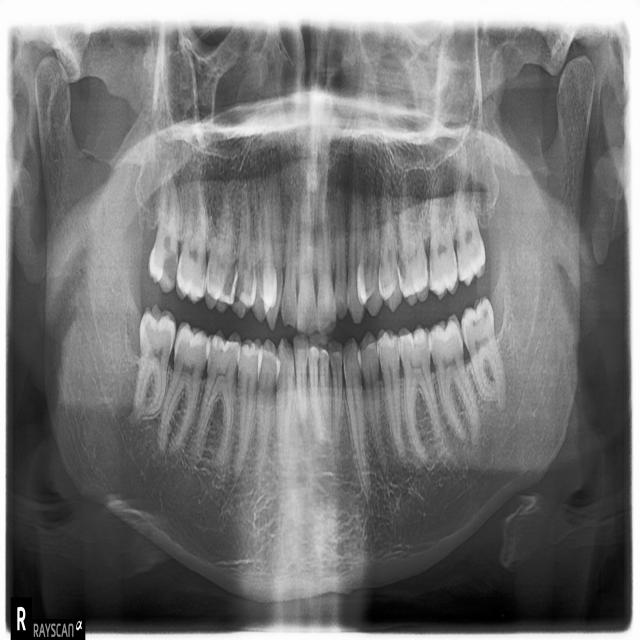mandibula: (34, 46, 596, 599)
